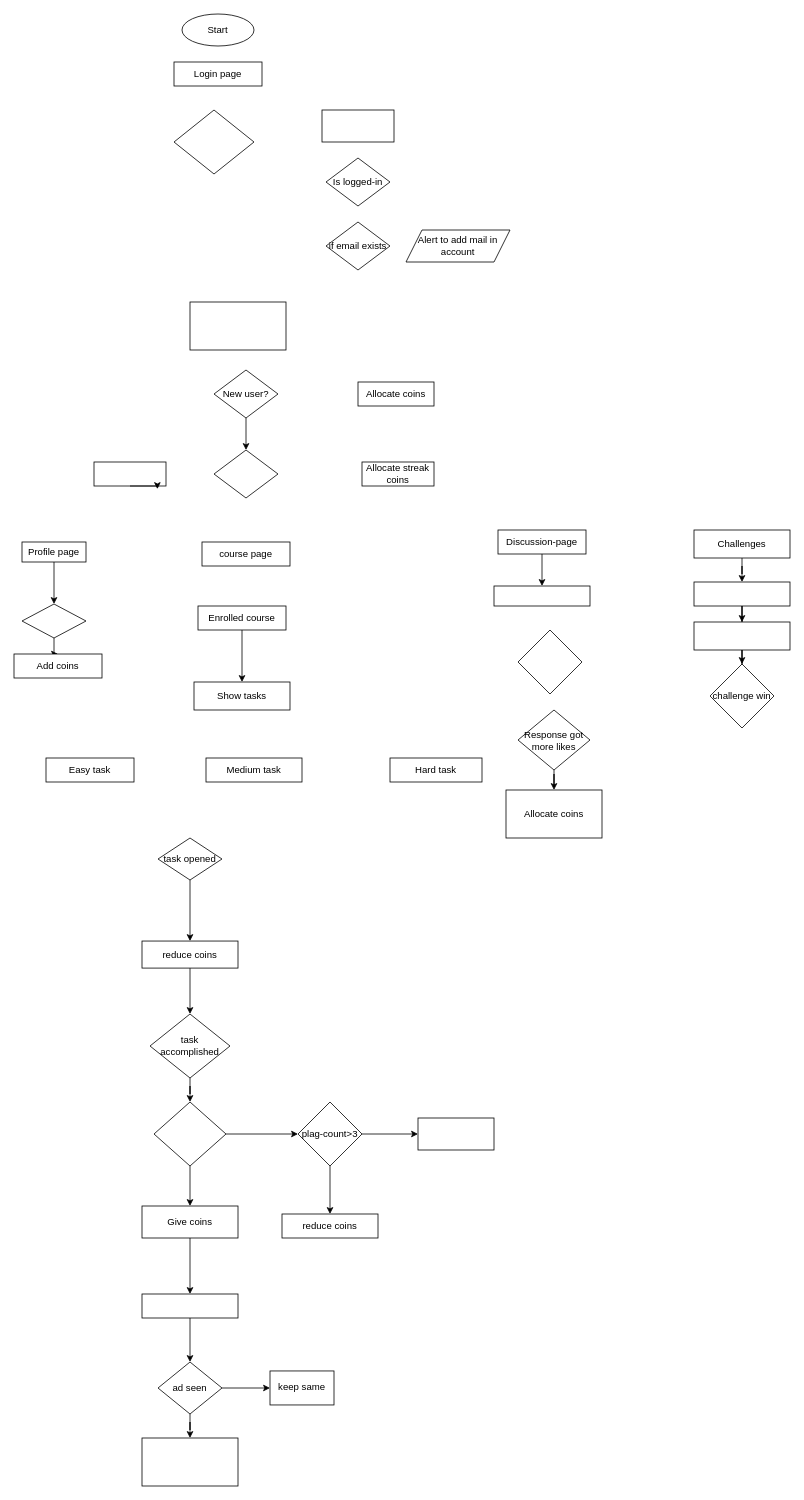
This 804x1500 diagram has some shape labels left out. Here are the shapes that lost their labels. From the top down, the centre of each, then its label:
the point at 213,141: Login with Holoworld
the point at 357,125: Social-media-login-page
the point at 237,325: Home page
the point at 129,473: No coins
the point at 245,473: Yesterday streak
the point at 541,595: questions
the point at 741,593: Registered challenge
the point at 53,620: profile updated
the point at 741,635: participation fee coins
the point at 549,661: Solve question
the point at 189,1133: Any plagiarism
the point at 455,1133: Block account
the point at 189,1305: Show rewarded video
the point at 189,1461: 2x task-won-coins
